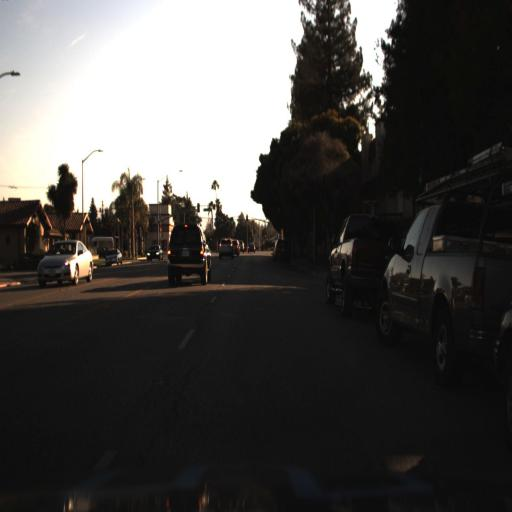car: (376, 177, 512, 396), (321, 210, 400, 311), (322, 206, 391, 310), (162, 221, 211, 288), (33, 238, 94, 289), (272, 236, 294, 267), (90, 234, 116, 260), (102, 243, 125, 268), (142, 244, 166, 265), (145, 242, 166, 266), (216, 237, 234, 265), (106, 244, 124, 270), (248, 240, 259, 256)
